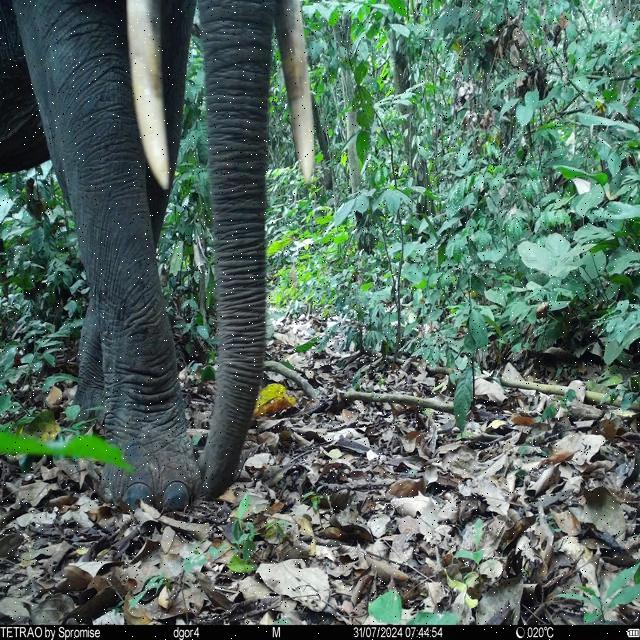elephant: (1, 0, 316, 512)
tusk: (126, 2, 172, 190), (280, 2, 316, 182)
